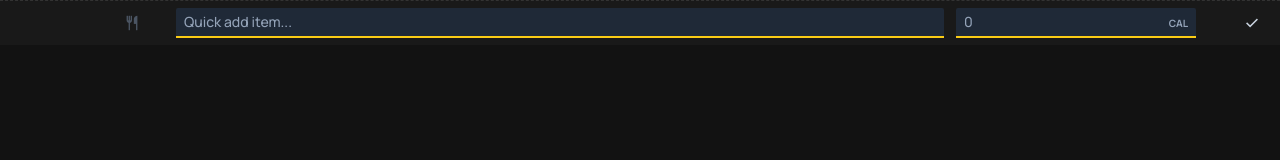
Test case: QuickAdd › resets inputs on cancel
This screenshot has width=1280, height=160.
Type "Apple" into the field with placeholder "Quick add item...". click: (560, 23)
box: [176,8,944,38]
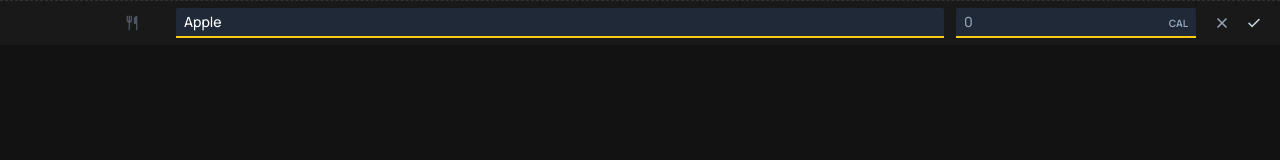
Click the button titled "Cancel". click: click(1222, 23)
box: [1208,7,1236,39]
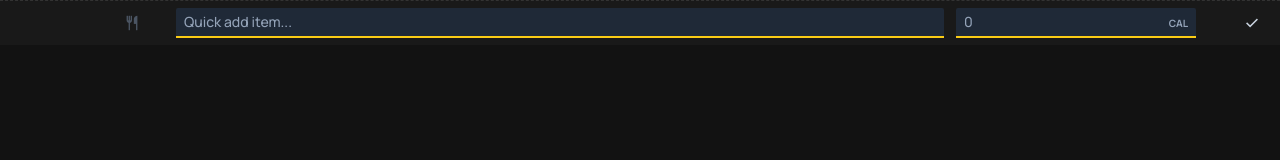
Expected: the field with placeholder "Quick add item..." is empty, [176,8,944,38]
Expected: the button titled "Cancel" is gone
